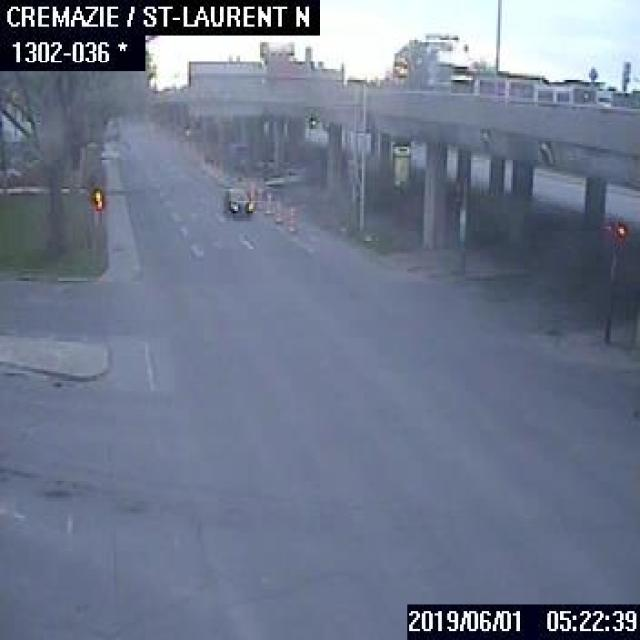construction: (263, 190, 271, 210), (285, 206, 293, 226), (274, 200, 281, 220)
vehicle: (222, 185, 255, 216)
